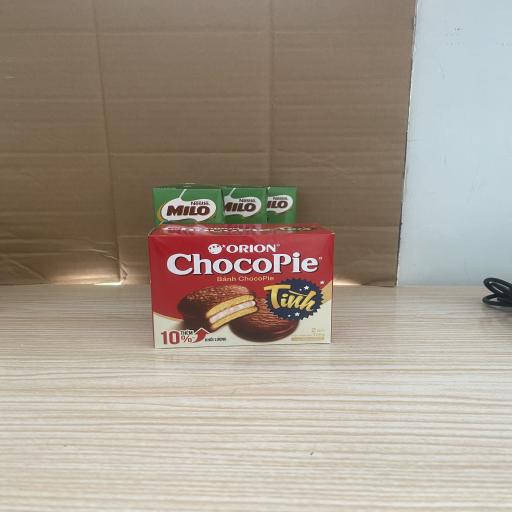chocopie: (148, 223, 335, 348)
milo: (152, 183, 225, 231), (221, 185, 268, 224), (266, 186, 297, 224)
